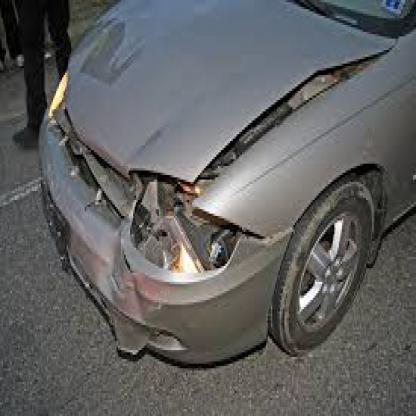dent: (123, 320, 189, 362), (104, 245, 140, 314)
